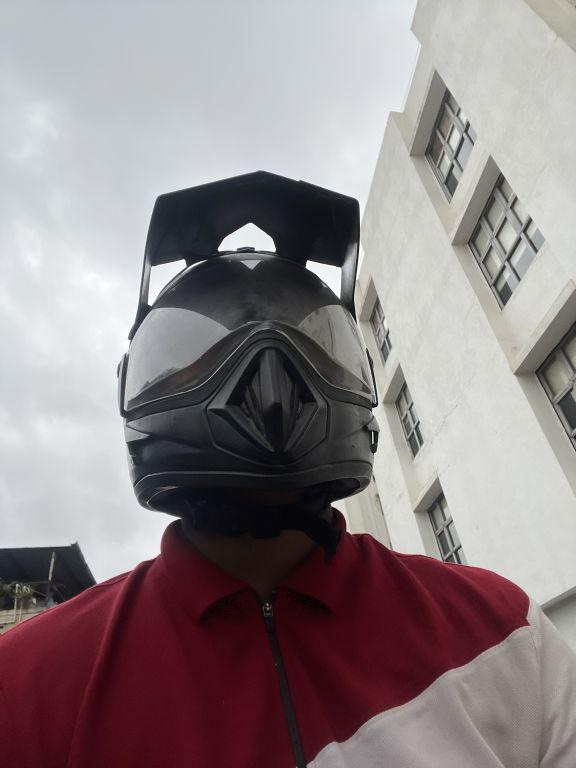helmet: (113, 155, 392, 550)
